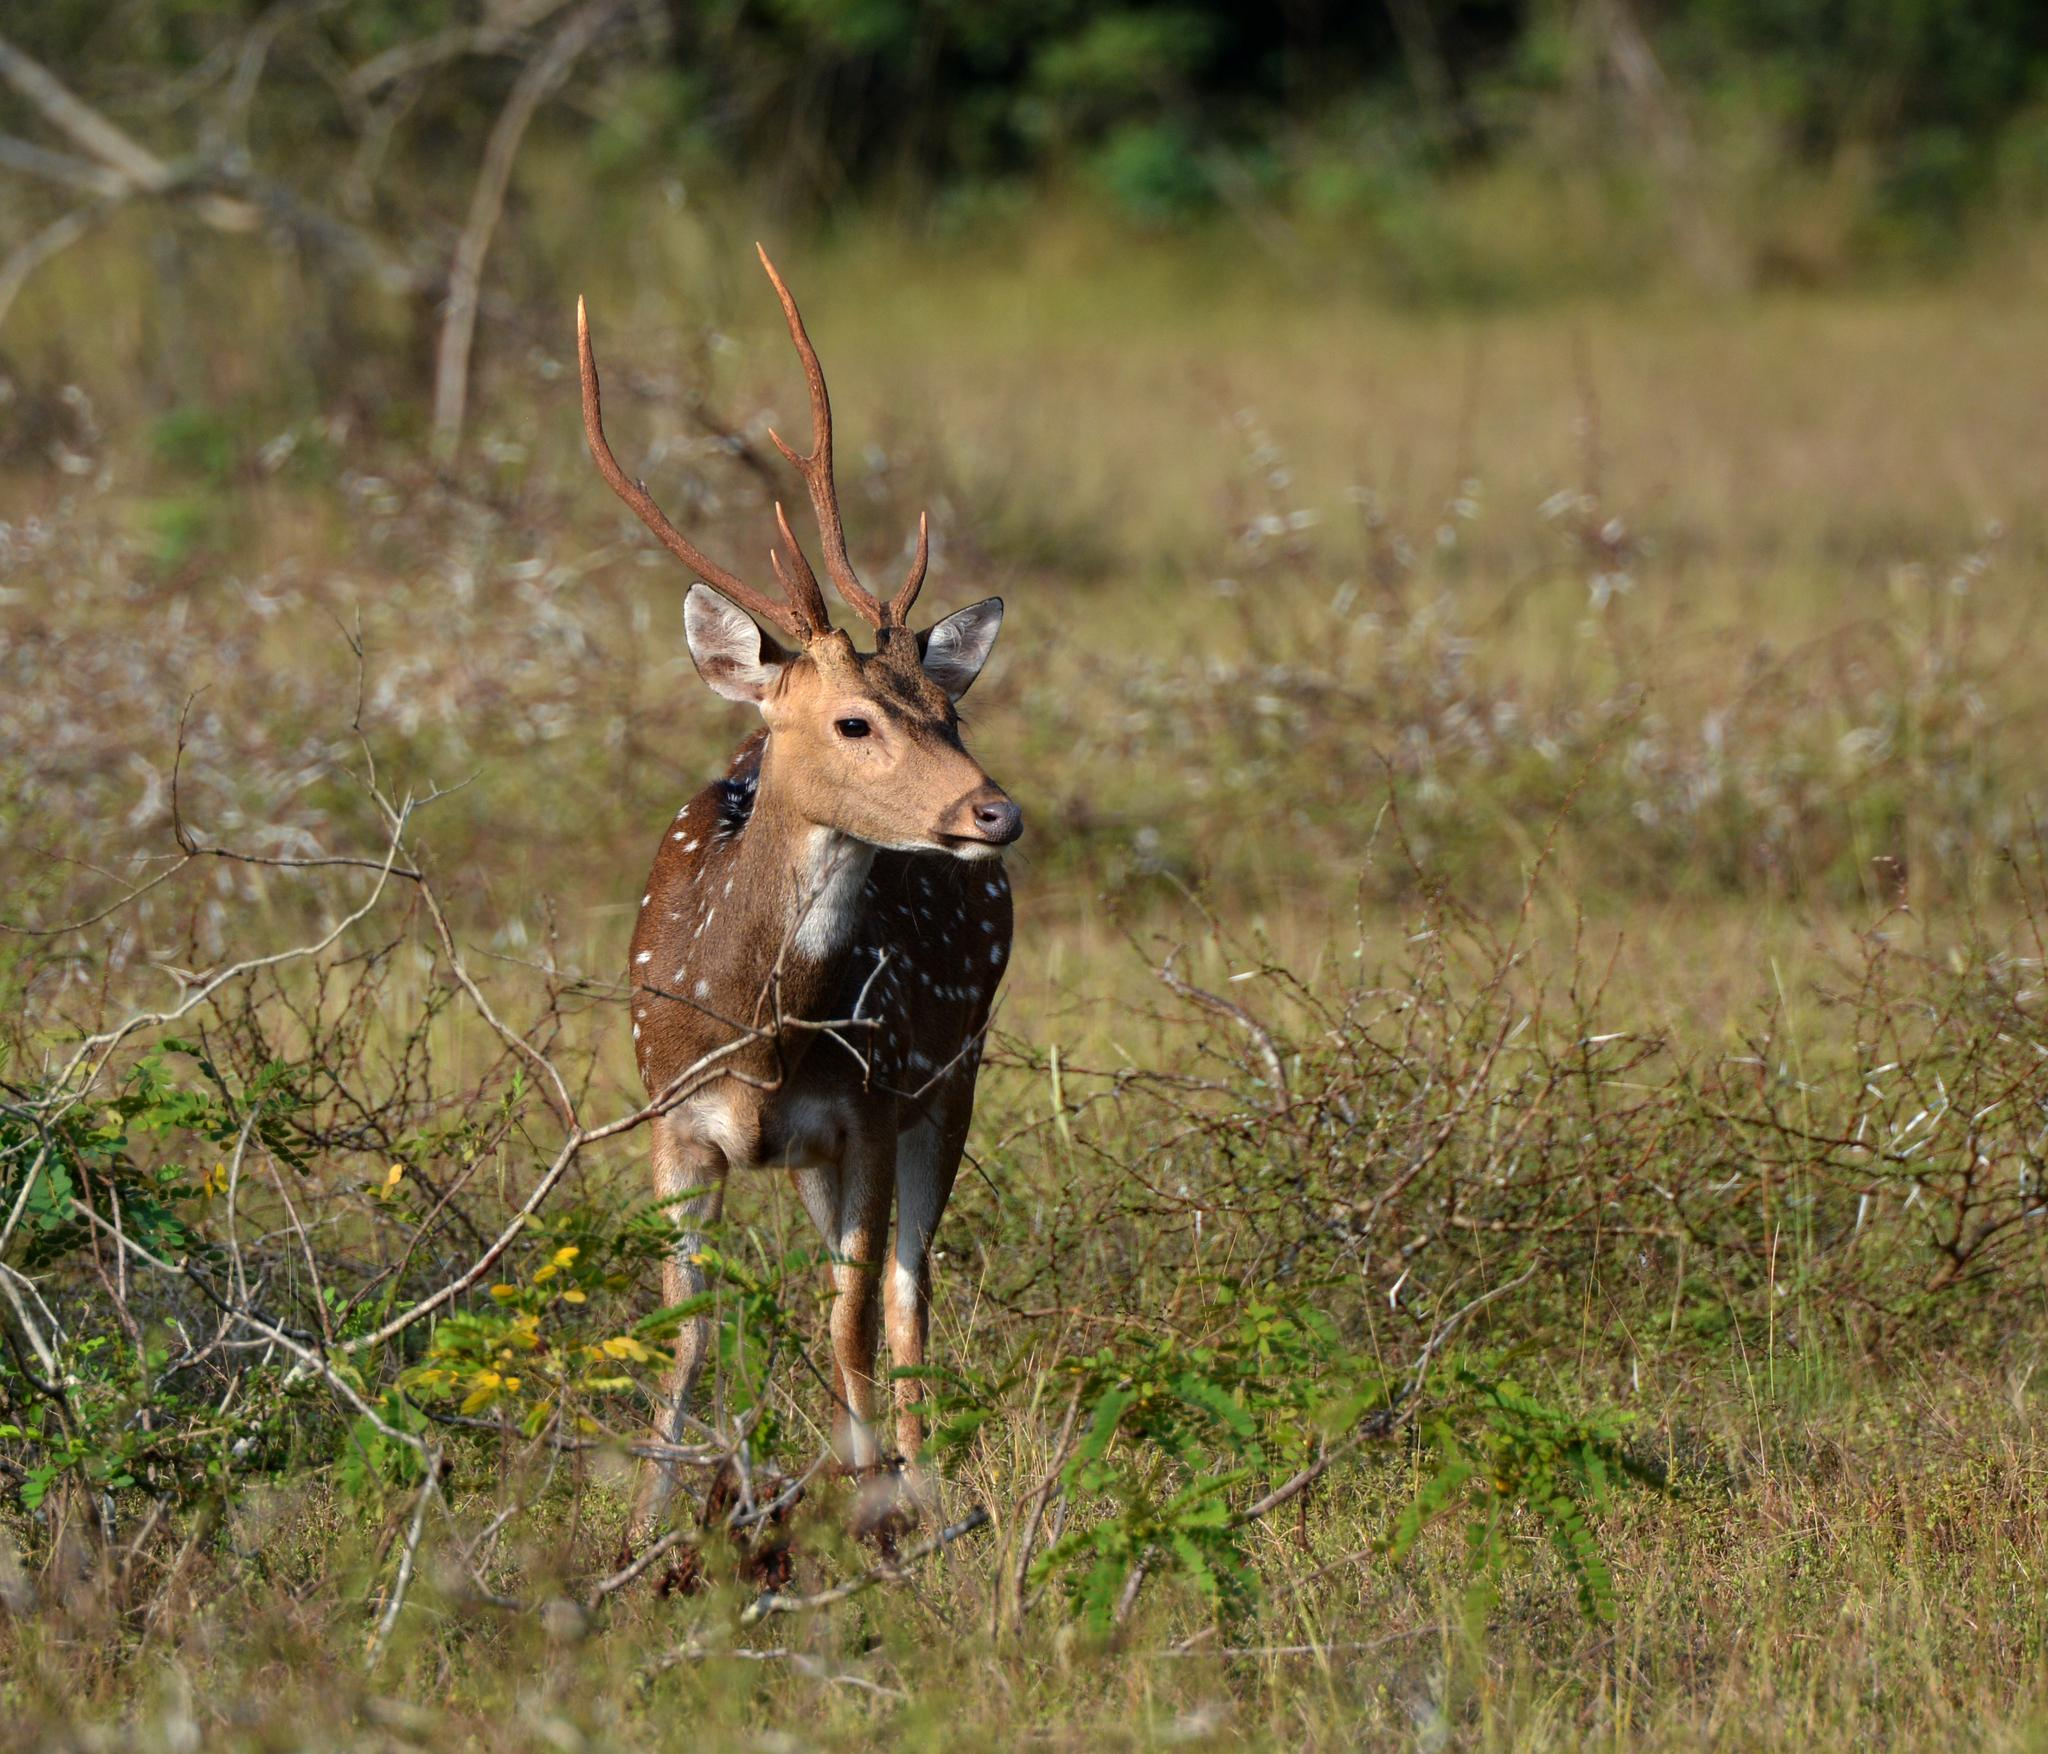Deer: (578, 249, 1021, 1523)
